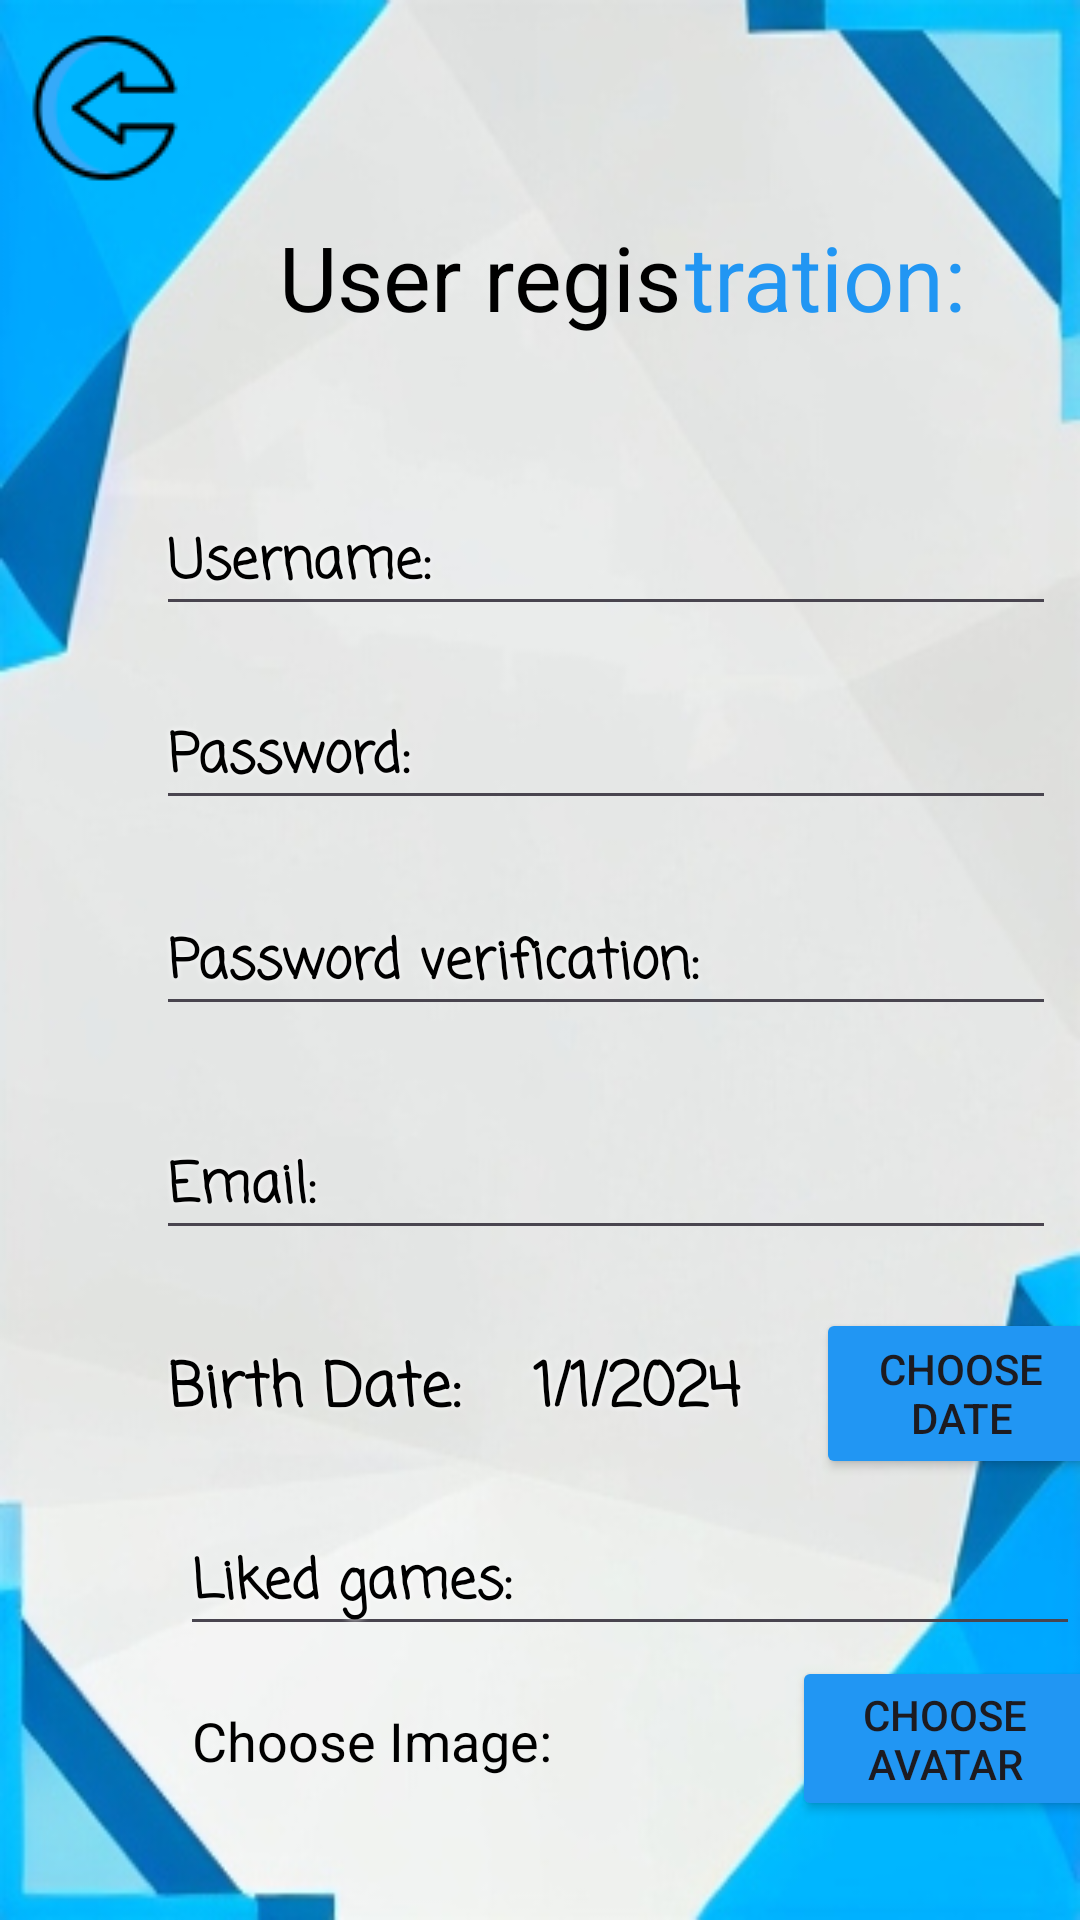

Where to tap for icons on this 1080 × 1920 app screen, as (x=x, y=y):
backarrow: (x=105, y=108)
